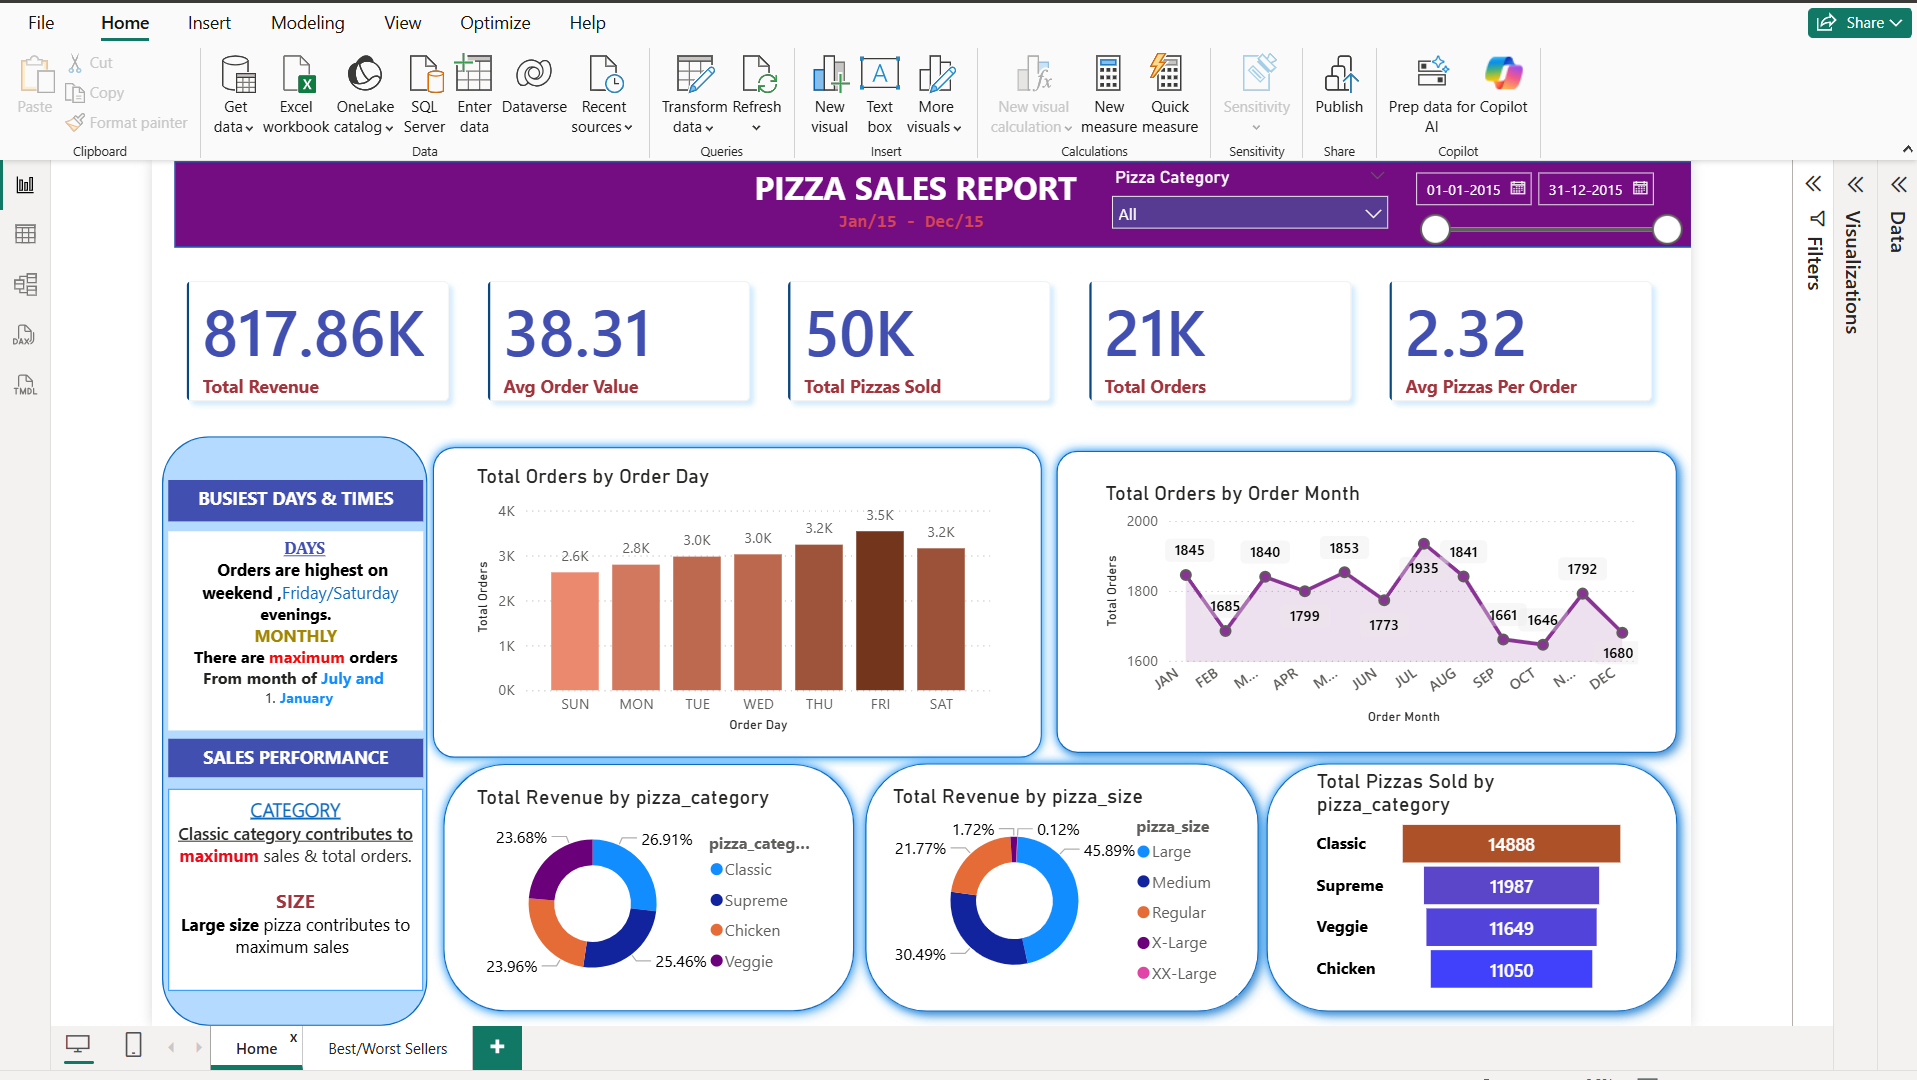

What the dashboard file says about the page in this screenshot:
{"tool":"powerbi","page":{"name":"Home","canvas":[1280,720],"ordinal":0},"visuals":[{"type":"cardVisual","fields":{"Data":["pizza_db pizza_sales.Total Revenue","pizza_db pizza_sales.Avg Order Value","pizza_db pizza_sales.Total Pizzas Sold","pizza_db pizza_sales.Total Orders","pizza_db pizza_sales.Avg Pizzas Per Order"]},"box":[0,72,1280.2,158],"z":0},{"type":"shape","box":[18.4,0.9,1261.7,71.7],"z":1000},{"type":"textbox","box":[337.5,0,594.3,62.2],"z":2000},{"type":"textbox","box":[485.7,36.8,291.2,34.7],"z":3000},{"type":"shape","box":[225.7,230.5,522.3,274.3],"z":4000},{"type":"columnChart","fields":{"Category":["pizza_db pizza_sales.Order Day"],"Y":["pizza_db pizza_sales.Total Orders"]},"box":[265.2,252.9,437.3,228.3],"z":5000},{"type":"shape","box":[740.2,229.5,539.8,275.3],"z":6000},{"type":"areaChart","fields":{"Category":["pizza_db pizza_sales.Order Month"],"Y":["pizza_db pizza_sales.Total Orders"]},"box":[787.6,266.9,453.1,207.2],"z":7000},{"type":"shape","box":[229.9,489.1,366.8,231],"z":8000},{"type":"shape","box":[580.9,489.5,351.3,230.7],"z":9000},{"type":"shape","box":[914.6,489.5,365.8,230.7],"z":10000},{"type":"donutChart","fields":{"Category":["pizza_db pizza_sales.pizza_category"],"Y":["pizza_db pizza_sales.Total Revenue"]},"box":[265.5,519.4,295,178.4],"z":11000},{"type":"donutChart","fields":{"Category":["pizza_db pizza_sales.pizza_size"],"Y":["pizza_db pizza_sales.Total Revenue"]},"box":[610.6,518.7,292.3,175.6],"z":12000},{"type":"funnel","fields":{"Category":["pizza_db pizza_sales.pizza_category"],"Y":["pizza_db pizza_sales.Total Pizzas Sold"]},"box":[963.3,506.3,267.6,190.7],"z":13000},{"type":"slicer","fields":{"Values":["pizza_db pizza_sales.order_date"]},"box":[1037.9,0,242.3,86],"z":14000},{"type":"slicer","fields":{"Values":["pizza_db pizza_sales.pizza_category"]},"box":[787.6,0.9,250.2,79],"z":15000},{"type":"shape","box":[8.8,229.5,220.8,490.2],"z":16000},{"type":"textbox","box":[13.6,266.5,212,34],"z":17000},{"type":"textbox","box":[13.6,308.3,212,165.3],"z":18000},{"type":"textbox","box":[13.6,481.5,212,32.1],"z":19000},{"type":"textbox","box":[13.6,522.3,212,168.3],"z":20000}]}

Visuals, with their boxes on the page's 1280x720 design canvas (x1, y1, x2, y2). These are canvas units, not pixel positions in the 1917x1080 screenshot, which may show the page scaled, cropped or inside an application window:
cardVisual - pizza_db pizza_sales.Total Revenue x pizza_db pizza_sales.Avg Order Value: (0, 72, 1280, 230)
shape: (18, 1, 1280, 73)
textbox: (338, 0, 932, 62)
textbox: (486, 37, 777, 72)
shape: (226, 230, 748, 505)
columnChart - pizza_db pizza_sales.Order Day x pizza_db pizza_sales.Total Orders: (265, 253, 702, 481)
shape: (740, 230, 1280, 505)
areaChart - pizza_db pizza_sales.Order Month x pizza_db pizza_sales.Total Orders: (788, 267, 1241, 474)
shape: (230, 489, 597, 720)
shape: (581, 490, 932, 720)
shape: (915, 490, 1280, 720)
donutChart - pizza_db pizza_sales.pizza_category x pizza_db pizza_sales.Total Revenue: (266, 519, 560, 698)
donutChart - pizza_db pizza_sales.pizza_size x pizza_db pizza_sales.Total Revenue: (611, 519, 903, 694)
funnel - pizza_db pizza_sales.pizza_category x pizza_db pizza_sales.Total Pizzas Sold: (963, 506, 1231, 697)
slicer - pizza_db pizza_sales.order_date: (1038, 0, 1280, 86)
slicer - pizza_db pizza_sales.pizza_category: (788, 1, 1038, 80)
shape: (9, 230, 230, 720)
textbox: (14, 266, 226, 300)
textbox: (14, 308, 226, 474)
textbox: (14, 482, 226, 514)
textbox: (14, 522, 226, 691)
